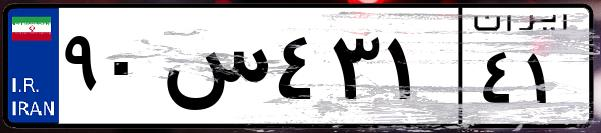0: (110, 28, 158, 98)
1: (385, 28, 445, 110), (525, 38, 570, 115)
3: (330, 28, 385, 110)
4: (270, 28, 330, 110), (475, 38, 525, 113)
9: (57, 26, 110, 100)
س: (158, 20, 270, 120)
